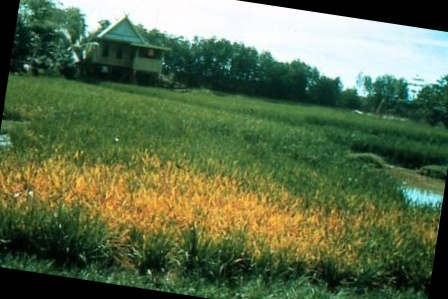Hopper_burn: (37, 150, 332, 260)
